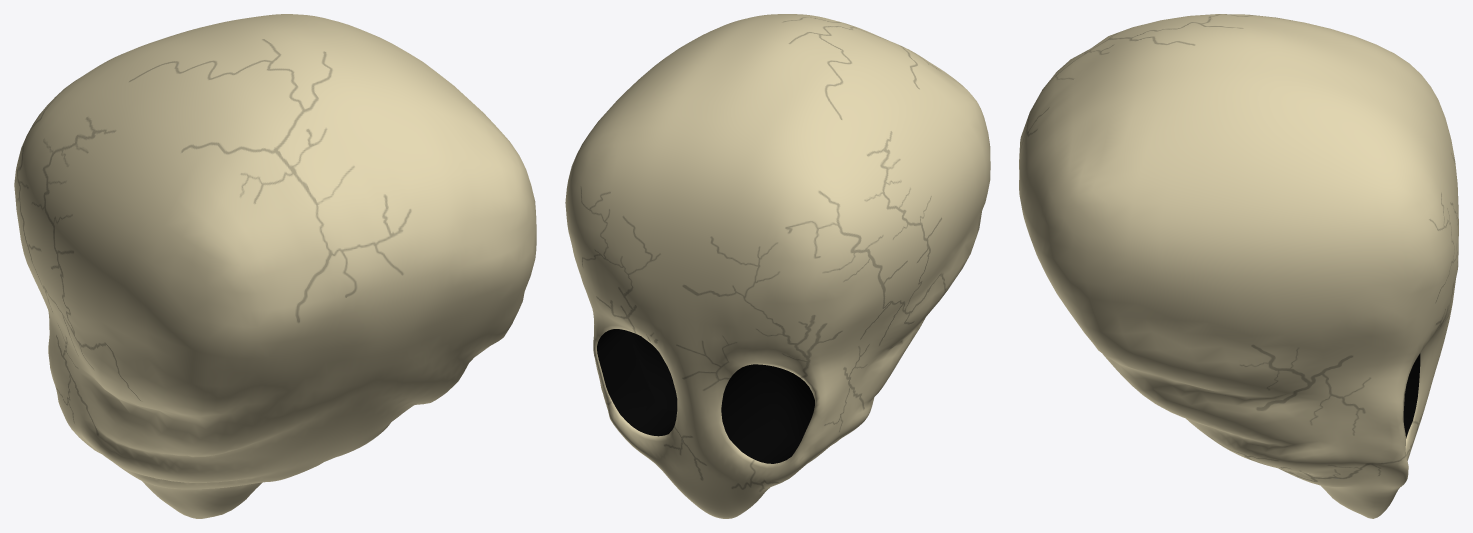
The model's file is CraneoAlien.fbx.
3 renders of one model, left to right at view 1: azimuth 30°, elevation 25°; view 2: azimuth 150°, elevation 25°; view 3: azimuth 270°, elevation 25°, orthographic. The views are drawn at different scales.
Visible parts, largest first — view 1: CraneoAlien; view 2: CraneoAlien; view 3: CraneoAlien.
Boxes of the visible parts, x1,y1,x2,y2 form: CraneoAlien: (14,14,536,518); CraneoAlien: (565,14,990,518); CraneoAlien: (1019,14,1458,518).
Bounding box in the file's own units: 239 × 303 × 250.
2 materials, 1 textured.
